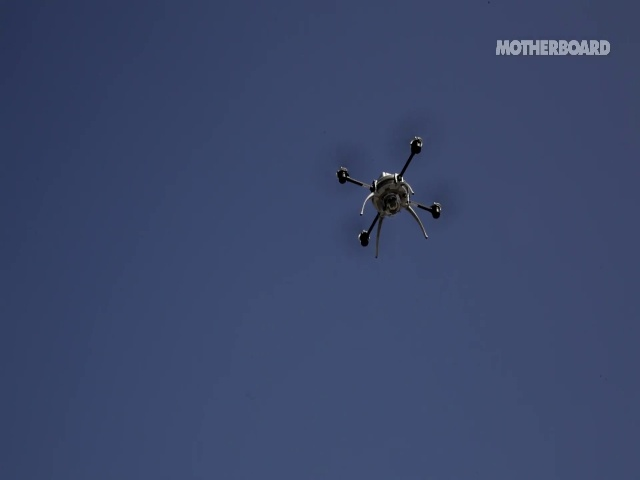drone: (317, 101, 472, 264)
